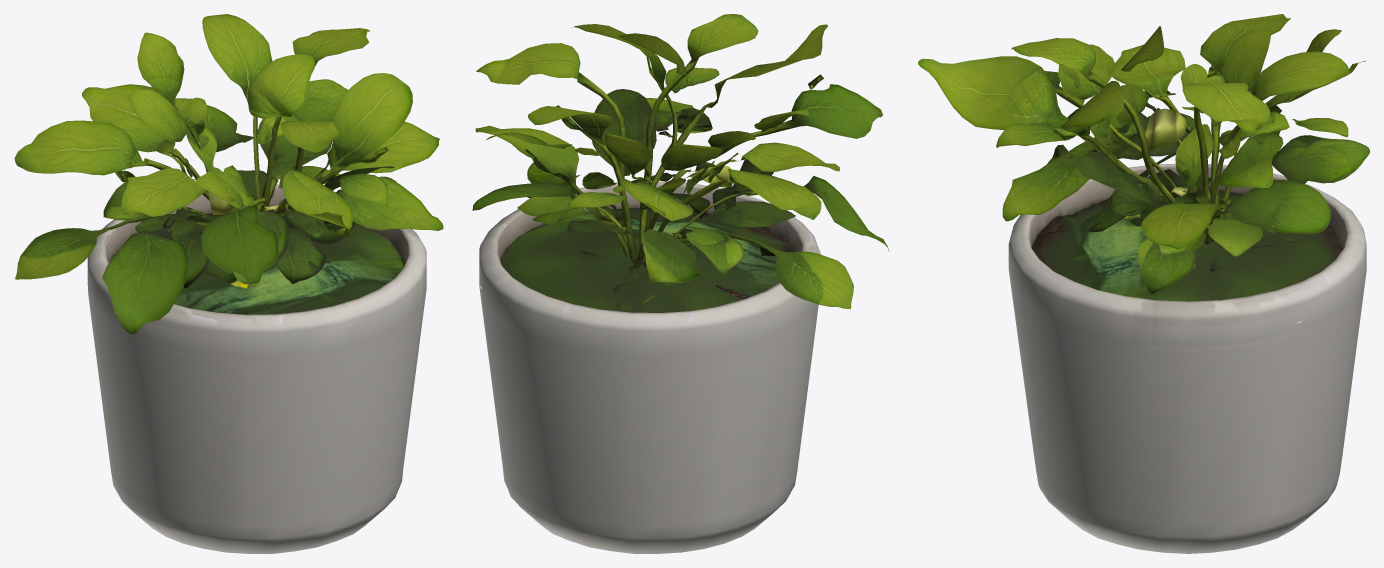
The model's file is small_pant.glb.
The picture shows the model from 3 angles, left to right: view 1: azimuth 30°, elevation 25°; view 2: azimuth 150°, elevation 25°; view 3: azimuth 270°, elevation 25°; orthographic projection. The views are drawn at different scales.
Parts seen in each view (by area): view 1: tripo_node_ce99cc43-7113-4726-bb9e-3e6e34491b07; view 2: tripo_node_ce99cc43-7113-4726-bb9e-3e6e34491b07; view 3: tripo_node_ce99cc43-7113-4726-bb9e-3e6e34491b07.
Boxes of the visible parts, <box> form: tripo_node_ce99cc43-7113-4726-bb9e-3e6e34491b07: <box>14,14,443,553</box>; tripo_node_ce99cc43-7113-4726-bb9e-3e6e34491b07: <box>472,14,889,553</box>; tripo_node_ce99cc43-7113-4726-bb9e-3e6e34491b07: <box>918,14,1369,553</box>.
Size of the model in its own units: 0.14 by 0.1517 by 0.1303.
1 material, 1 textured.
